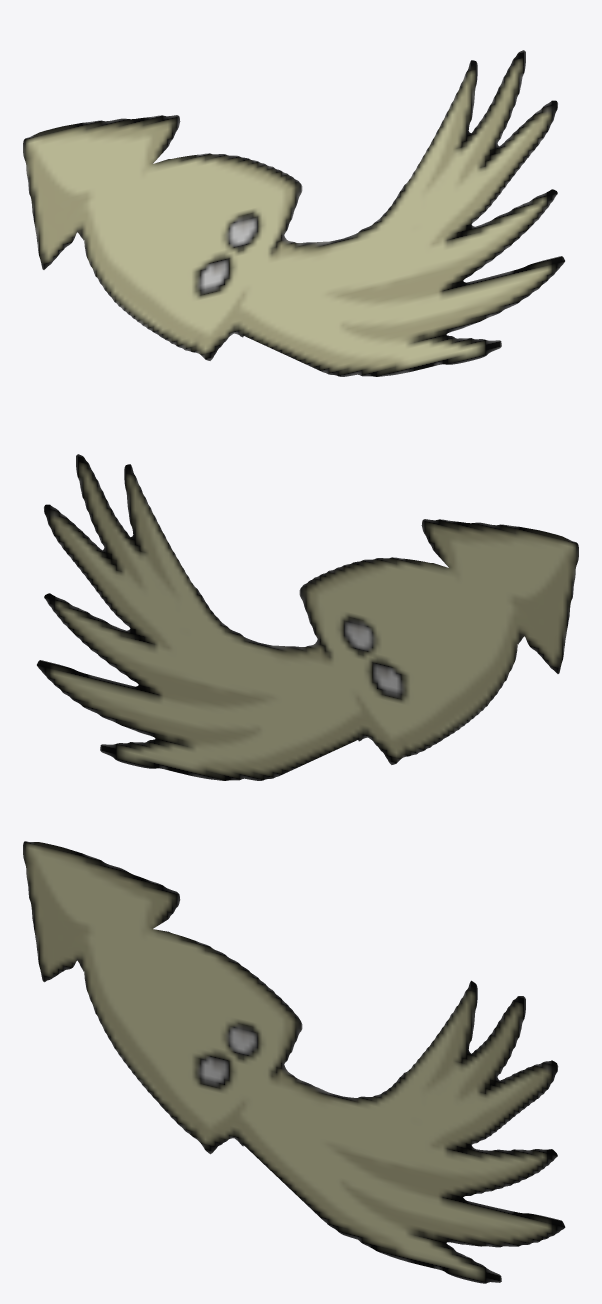
The model's file is giftgoods094.fbx.
3 views of the same model, one above another, from view 1: azimuth 30°, elevation 25°; view 2: azimuth 150°, elevation 25°; view 3: azimuth 330°, elevation 25° (orthographic).
Visible parts, largest first — view 1: giftgoods094; view 2: giftgoods094; view 3: giftgoods094.
Boxes of the visible parts, x1,y1,x2,y2 form: giftgoods094: [23, 50, 564, 376]; giftgoods094: [37, 454, 578, 780]; giftgoods094: [23, 841, 565, 1283].
Bounding box in the file's own units: 0.908 × 0.5296 × 0.
